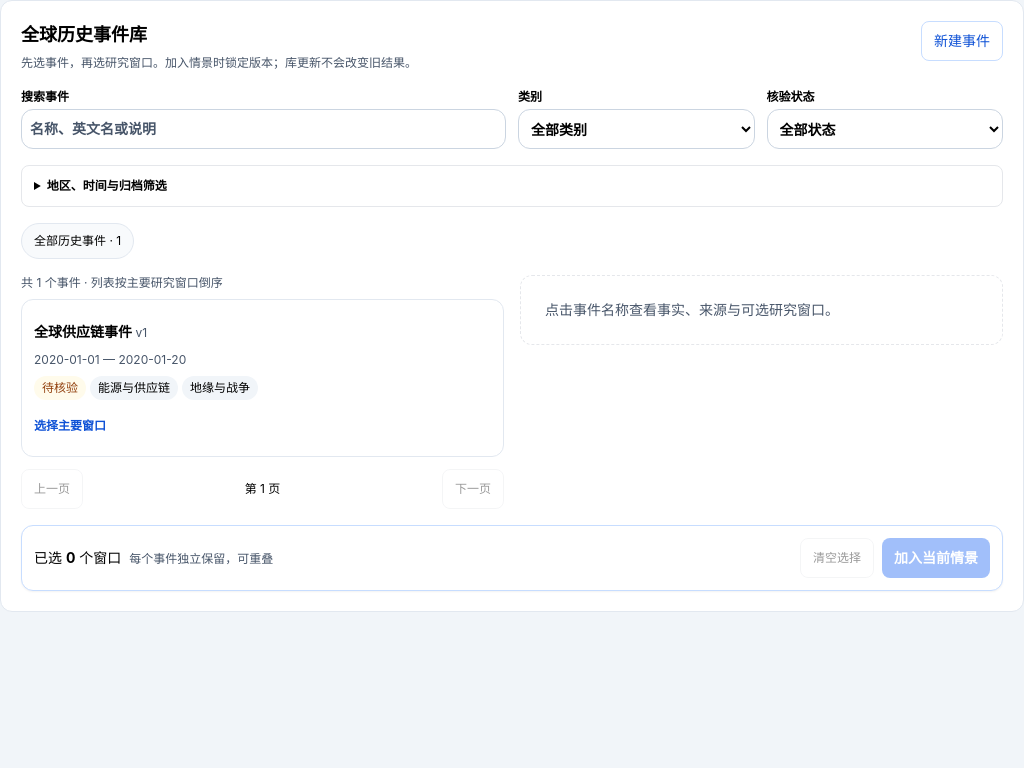
Test: 全球事件库 › 事件包与逐项选择去重，并能取消单项
The image size is (1024, 768).
Click the button "选择主要窗口": [70, 426] box [34,408,106,444]
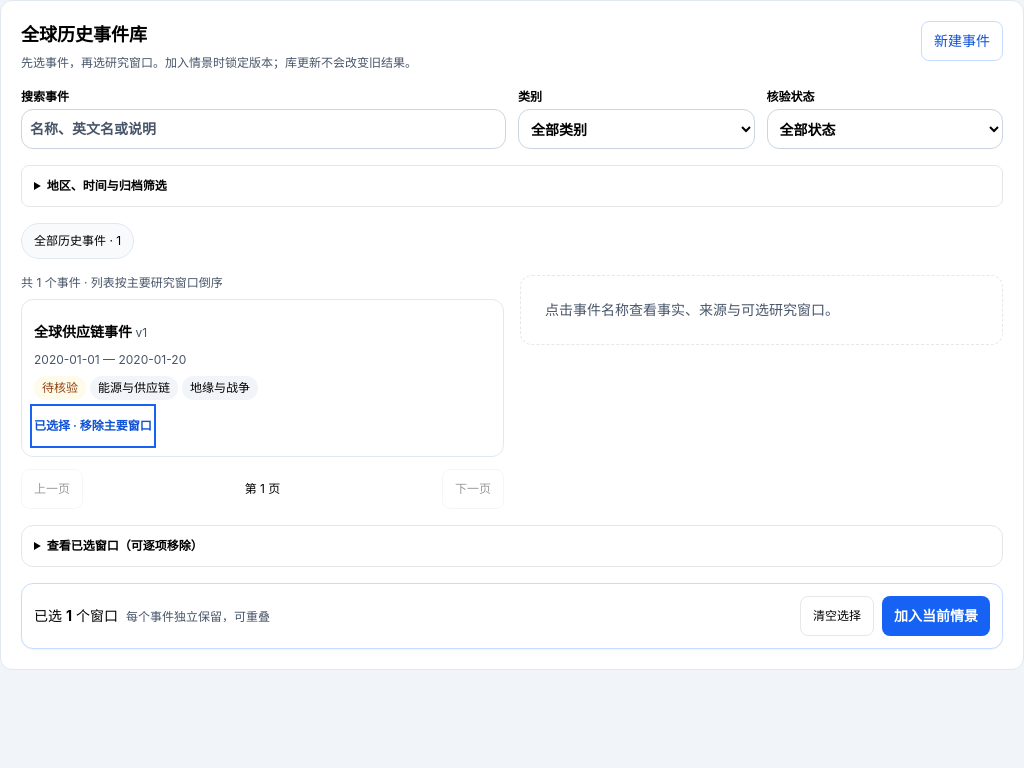
Click the button "全部历史事件 · 1": [78, 241] box [21,223,134,259]
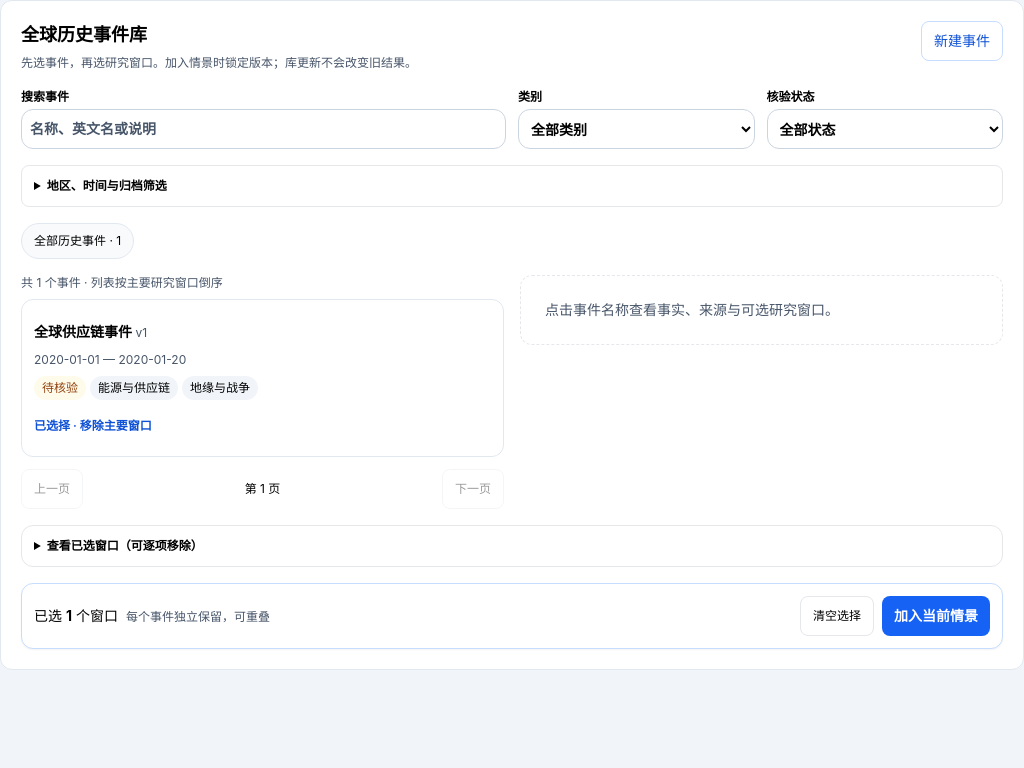
expect the element named "已选事件" shows "1": met, box [66,607,72,624]
Click the button "已选择 · 移除主要窗口": [93, 426] box [34,408,152,444]
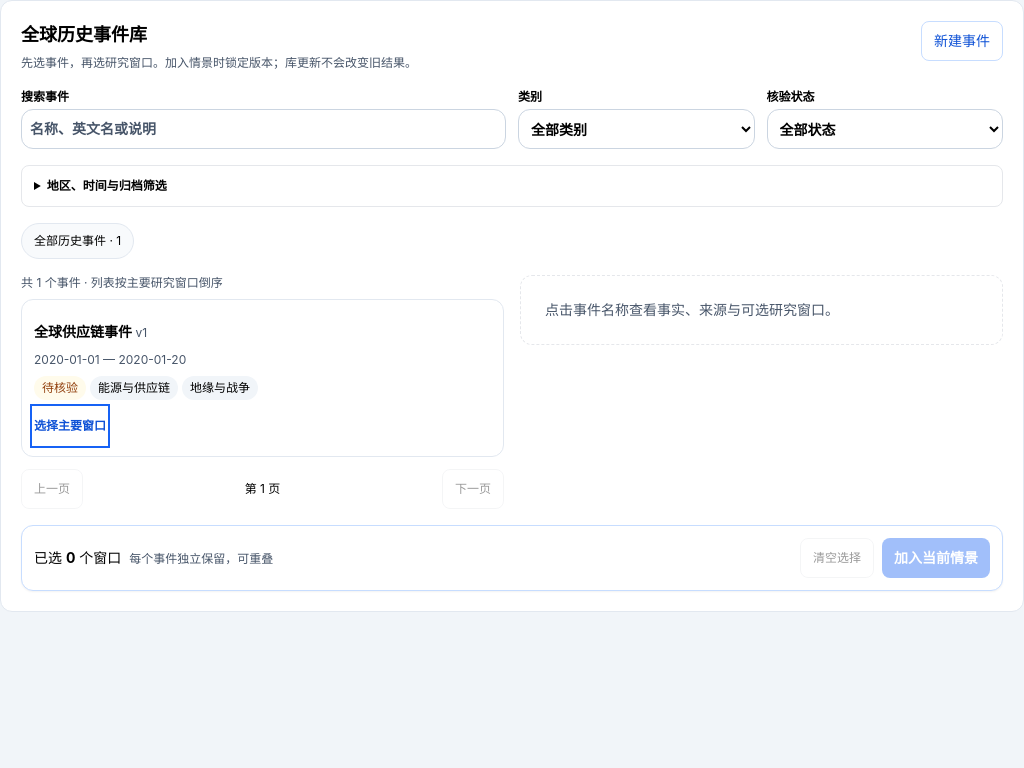
expect the button "加入当前情景" is disabled: met, box [882,538,990,578]
